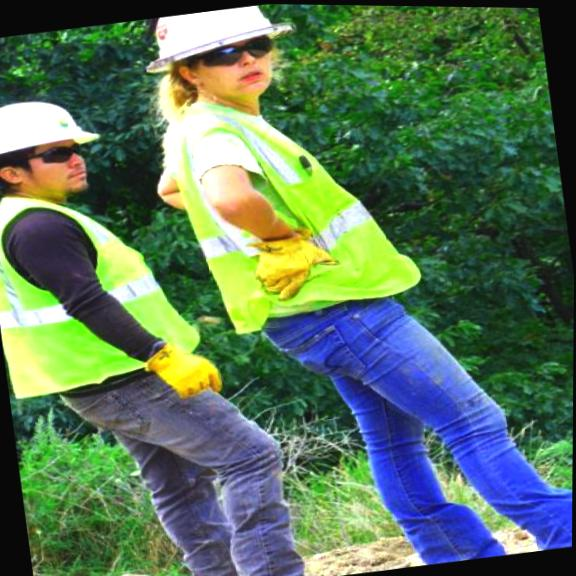safety_vest: (152, 82, 386, 355), (0, 178, 181, 419)
